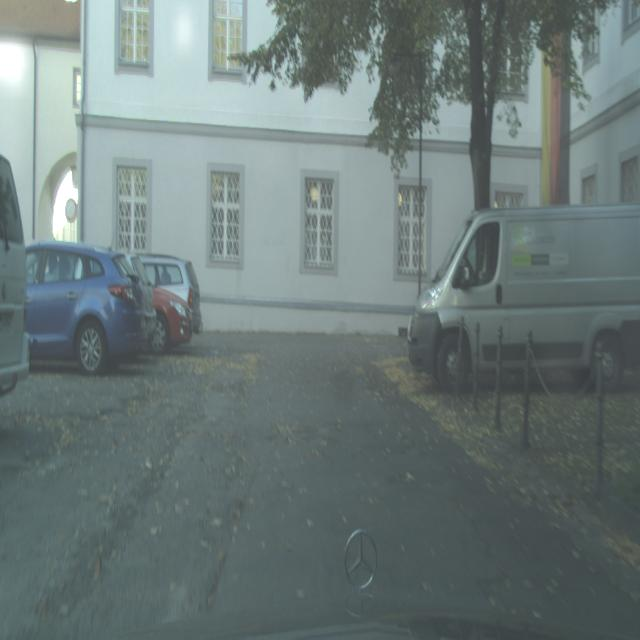car: (403, 204, 639, 395)
person: (25, 239, 154, 377), (0, 154, 31, 396), (135, 254, 201, 345)
